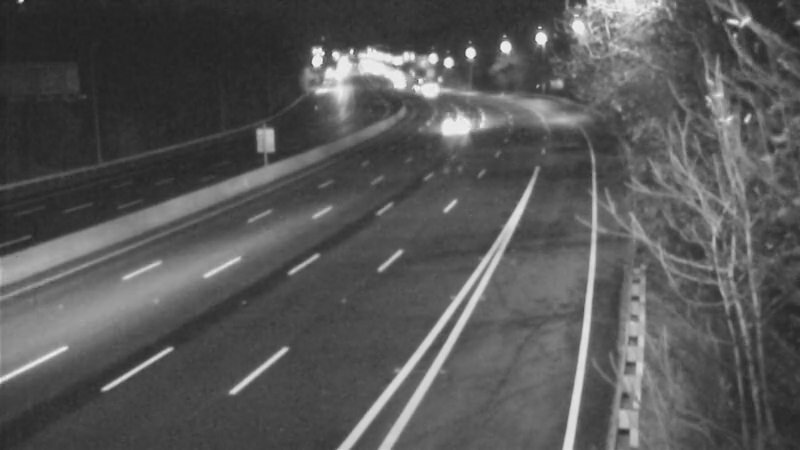vehicle: (398, 60, 448, 110), (374, 59, 424, 109), (404, 65, 454, 115), (427, 97, 477, 147)
